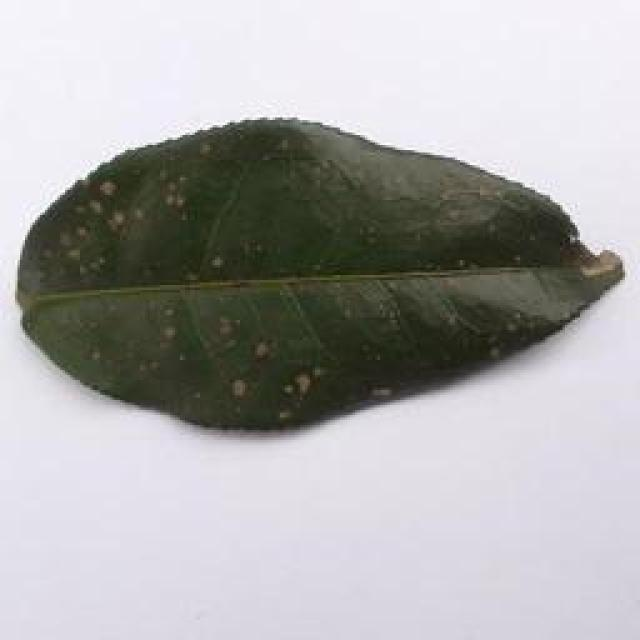Algal Leaf Spot: (11, 112, 626, 438)
